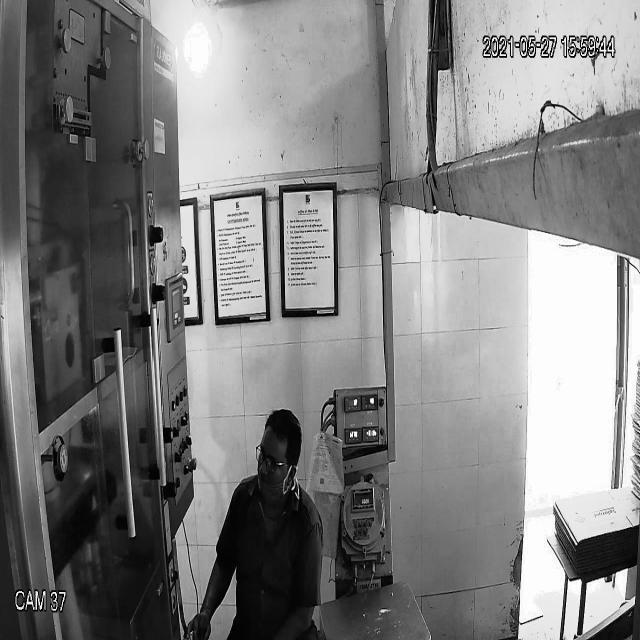glasses: (252, 442, 296, 476)
